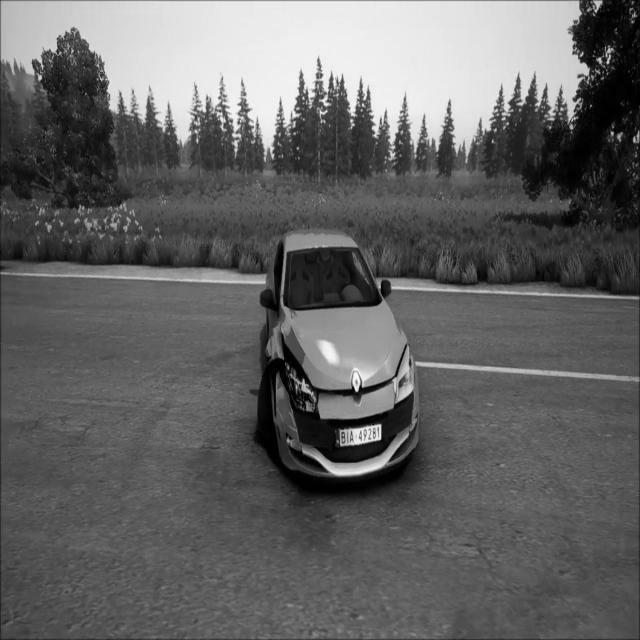moderate: (251, 223, 423, 500)
